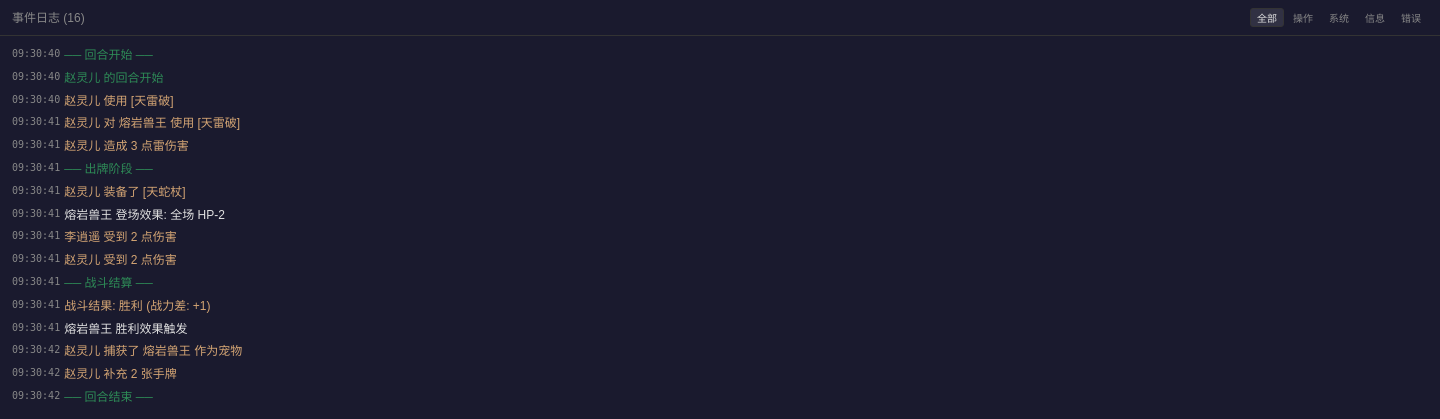
it: EventLog › filtering › should filter to info entries only
Click the button "信息" at (1375, 18), box [1358,8,1392,27]
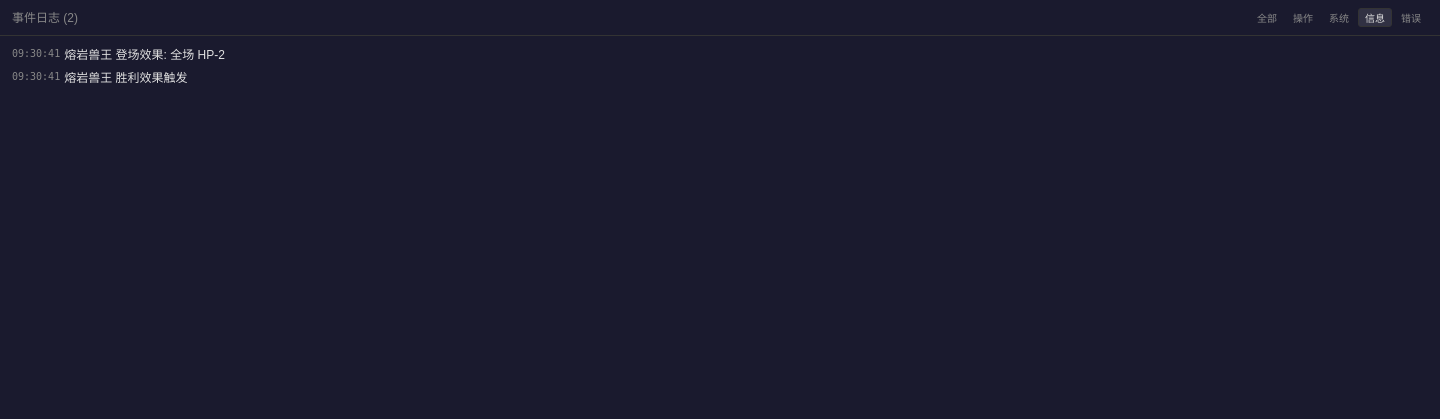
Check: the text "熔岩兽王 登场效果: 全场 HP-2" is shown, box [64,47,225,64]
Check: the text "赵灵儿 使用 [天雷破]" is gone
